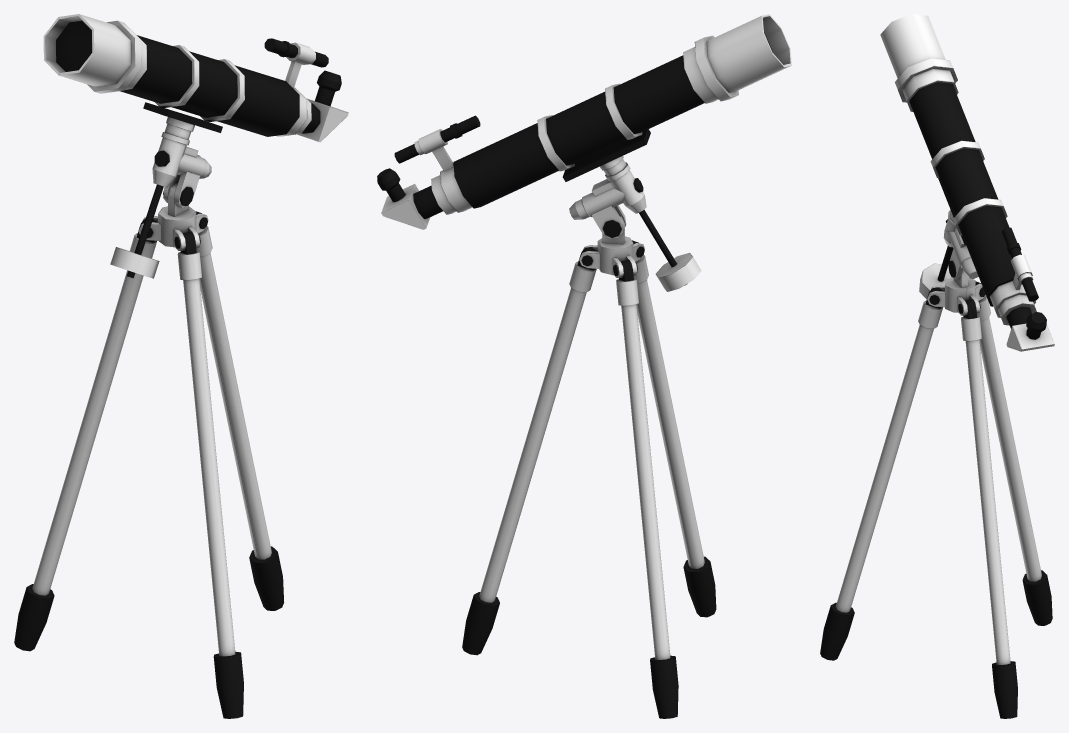
File: Scope.fbx
3 views of the same model, side by side, from view 1: azimuth 30°, elevation 25°; view 2: azimuth 150°, elevation 25°; view 3: azimuth 270°, elevation 25° (orthographic). The views are drawn at different scales.
Visible parts, largest first — view 1: Scope01; view 2: Scope01; view 3: Scope01.
Boxes of the visible parts, <box> form: Scope01: <box>14,14,348,718</box>; Scope01: <box>377,14,791,718</box>; Scope01: <box>820,14,1054,718</box>.
Bounding box in the file's own units: 7.01 × 12.84 × 4.56.
1 material, 1 textured.
